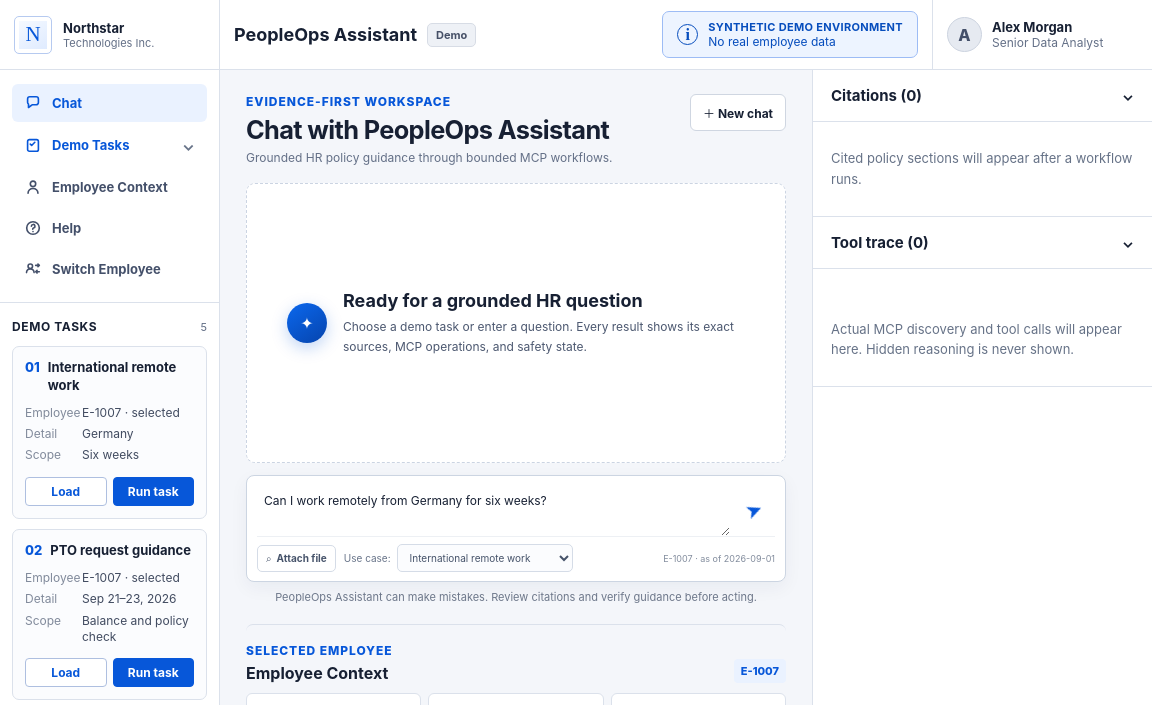
Test case: PeopleOps Assistant Phase 8 evidence-first interface › loads a demo task without overriding the selected employee context
The image size is (1152, 705).
Select "Parker Adams (E-1014)" in the dropdown labelled "A Alex Morgan Senior Data Analyst" at (1042, 34), box [932,0,1151,69]
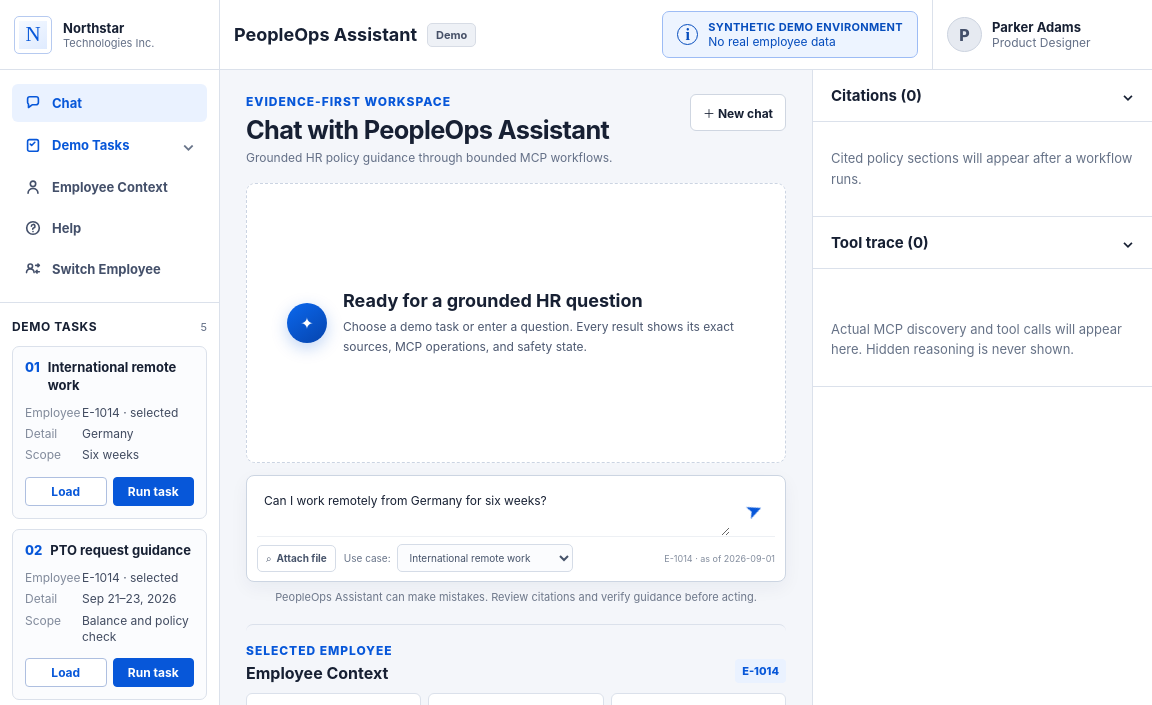
Expected: the text "PTO request guidance" is shown, [50,542,191,558]
Expected: the text "E-1014 · selected" below "PTO request guidance" is shown, [82,570,178,585]
Click the button "Load" below "Balance and policy check" at (66, 672), box [25,658,106,687]
(page scrolled)
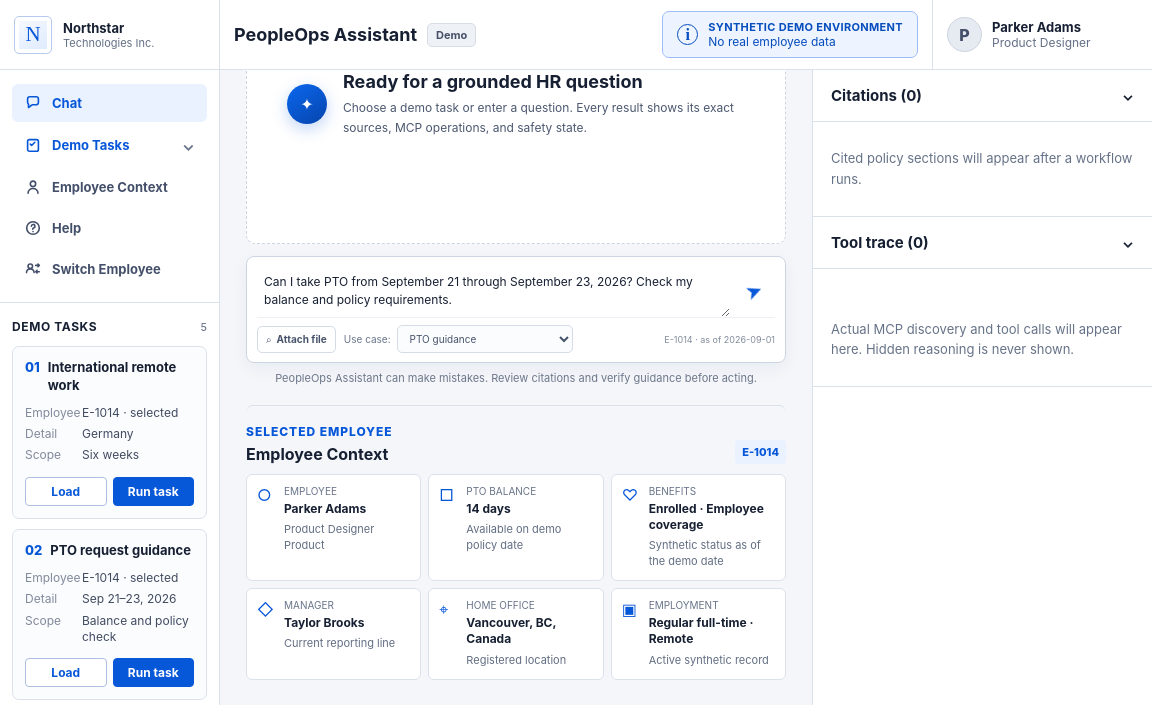
Expected: the text "E-1014" is shown, [735,440,786,464]
Expected: the text "Parker Adams" in the row of "Synthetic demo environment" is shown, [992,19,1081,35]
Expected: the text box showing "September 21 through September 23" is shown, [257,265,730,317]
